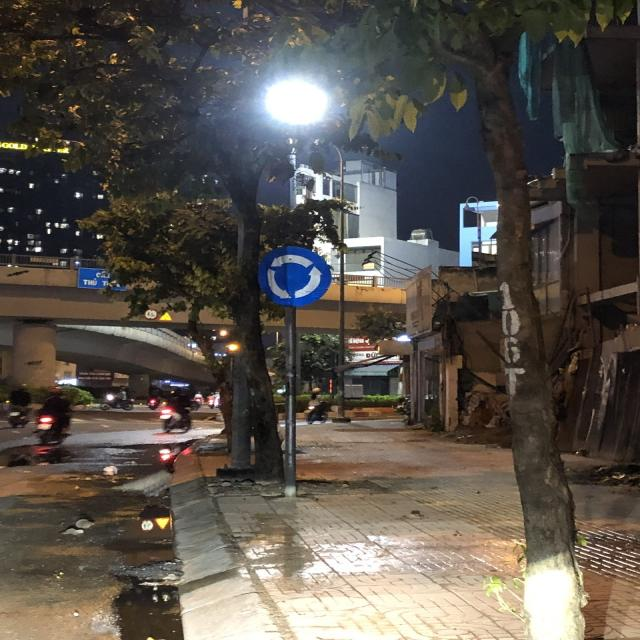Bien bao noi giao nhau chay theo vong xuyen: (255, 241, 332, 311)
